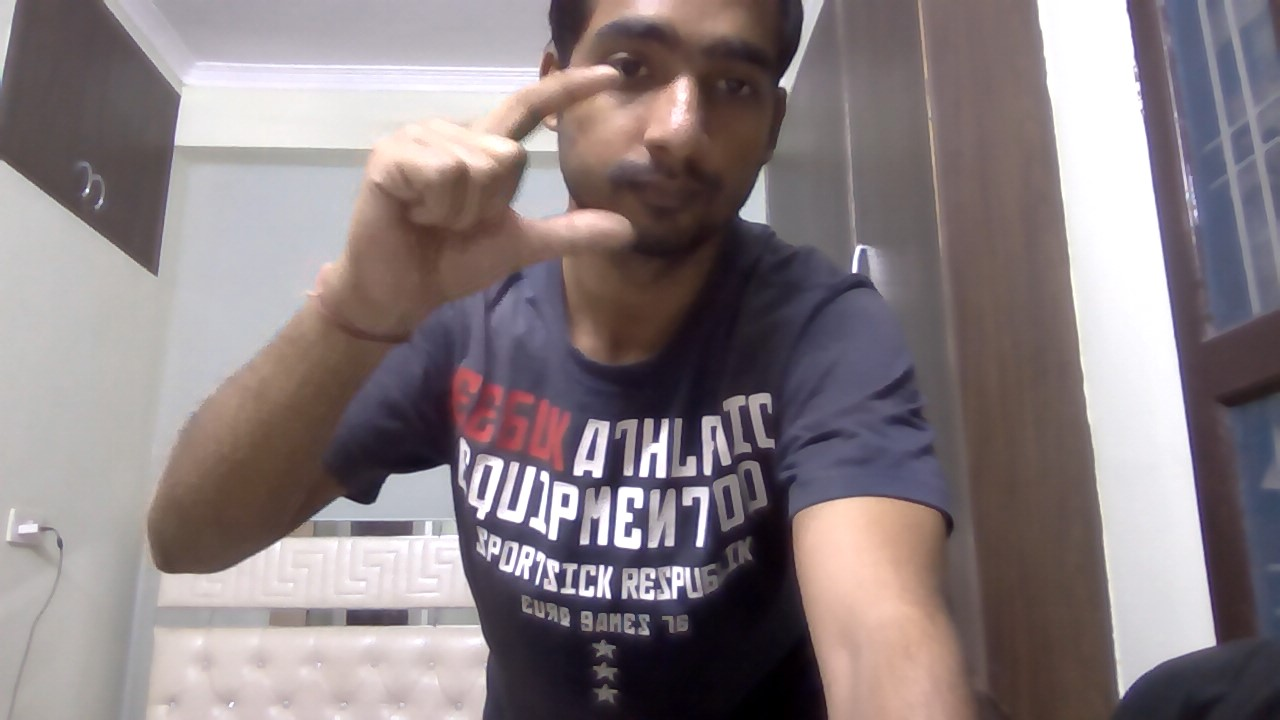Paste: (328, 60, 650, 349)
